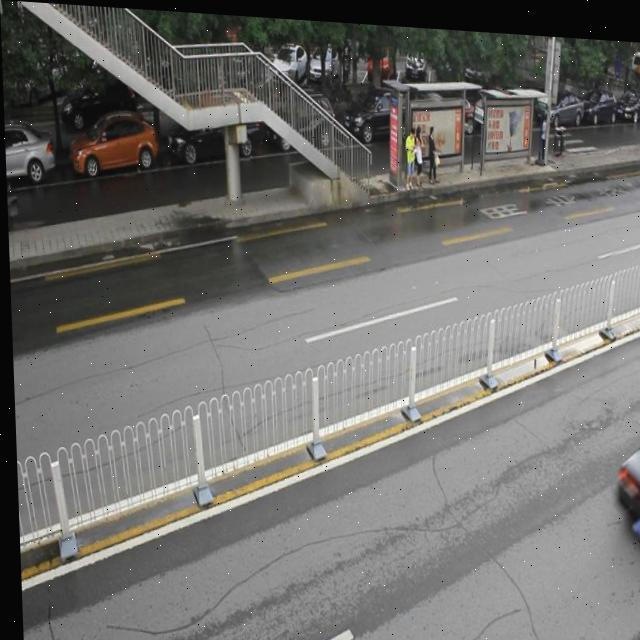car: (167, 91, 261, 162), (68, 109, 157, 177), (266, 83, 336, 151), (345, 79, 417, 141), (607, 410, 640, 539), (3, 120, 56, 186)
